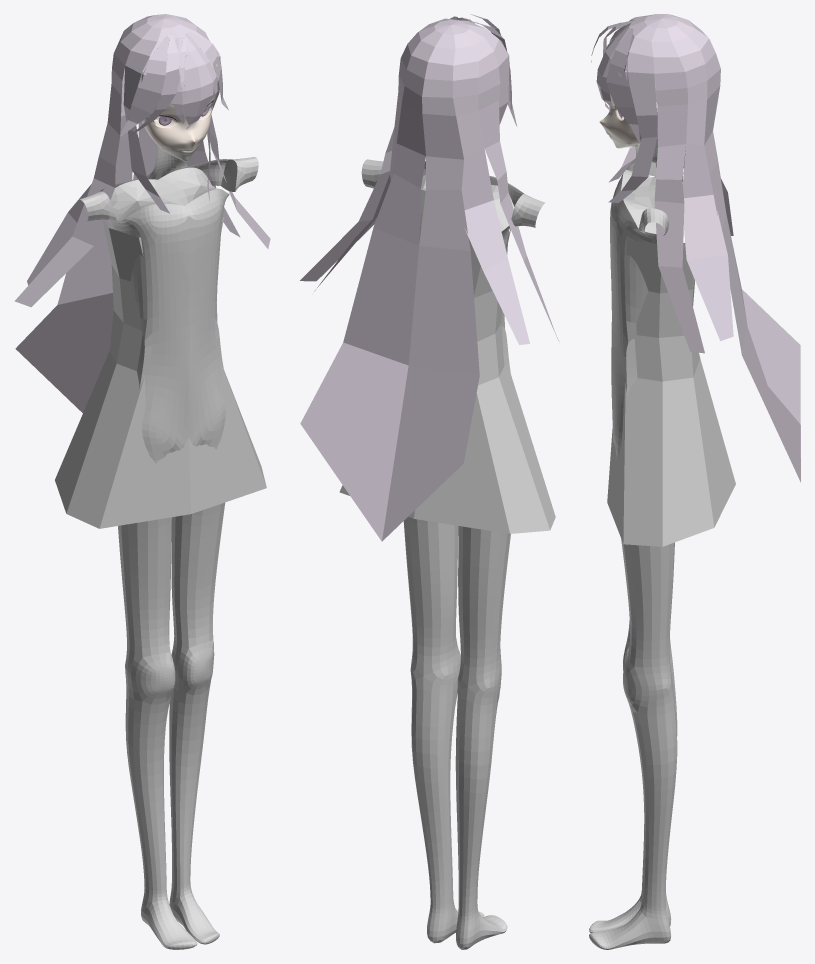
Rendered from armeria_s.glb.
3 renders of one model, left to right at view 1: azimuth 30°, elevation 25°; view 2: azimuth 150°, elevation 25°; view 3: azimuth 270°, elevation 25°, orthographic. The views are drawn at different scales.
Visible parts, largest first — view 1: body, 円, 平面.004, 平面.006, 平面.005, head, 平面; view 2: 平面.004, body, 円; view 3: 平面.004, body, 円, 平面.005, head, 平面.006.
Part boxes in pixels (x1=…): body: x1=79, y1=144, x2=258, y2=949; 円: x1=55, y1=217, x2=266, y2=528; 平面.004: x1=14, y1=14, x2=270, y2=412; 平面.006: x1=172, y1=33, x2=217, y2=129; 平面.005: x1=120, y1=30, x2=228, y2=136; head: x1=142, y1=51, x2=218, y2=161; 平面: x1=128, y1=33, x2=179, y2=137; 平面.004: x1=300, y1=18, x2=559, y2=541; body: x1=361, y1=159, x2=545, y2=949; 円: x1=339, y1=229, x2=555, y2=533; 平面.004: x1=608, y1=14, x2=800, y2=482; body: x1=589, y1=137, x2=677, y2=949; 円: x1=607, y1=239, x2=735, y2=546; 平面.005: x1=606, y1=18, x2=640, y2=143; head: x1=599, y1=72, x2=641, y2=148; 平面.006: x1=596, y1=24, x2=631, y2=109.
Bounding box in the file's own units: 1.11 × 3.75 × 0.7825.
Materials: 10 (8 with a texture image).
